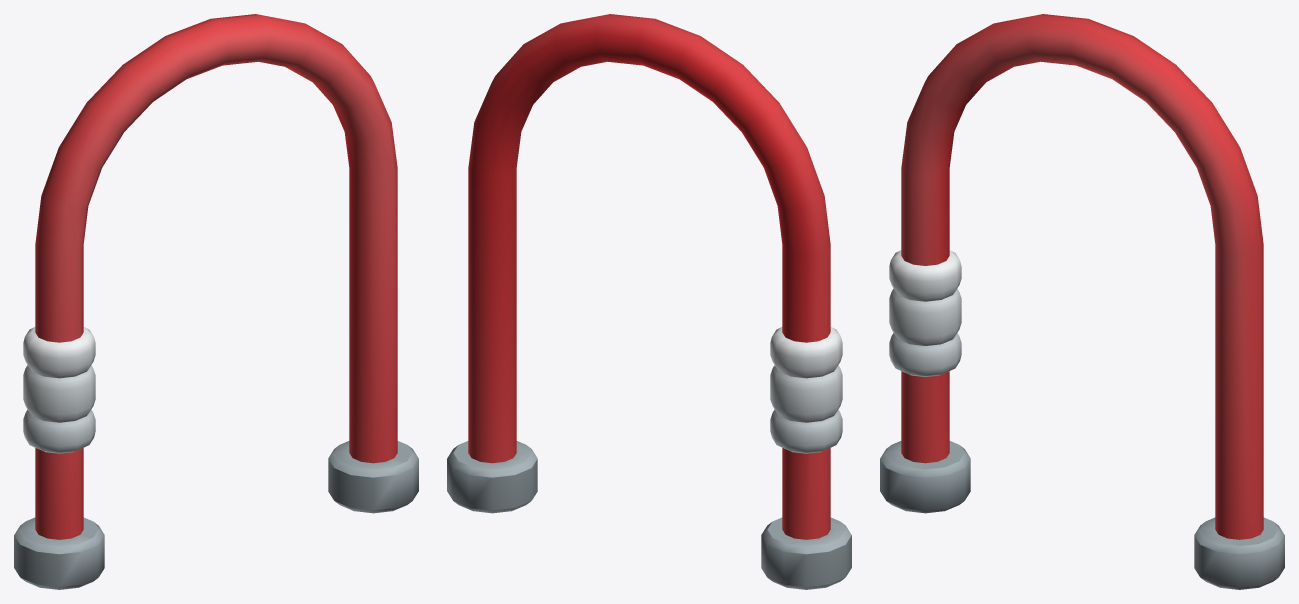
The model's file is arch_tall_red.glb.
3 renders of one model, left to right at view 1: azimuth 30°, elevation 25°; view 2: azimuth 150°, elevation 25°; view 3: azimuth 330°, elevation 25°, orthographic.
Parts seen in each view (by area): view 1: arch_tall_red; view 2: arch_tall_red; view 3: arch_tall_red.
Part boxes in pixels (<box>): arch_tall_red: <box>14,14,418,589</box>; arch_tall_red: <box>447,14,851,589</box>; arch_tall_red: <box>880,14,1284,589</box>.
Size of the model in its own units: 3.75 by 4.7 by 0.75.
1 material, 1 textured.
